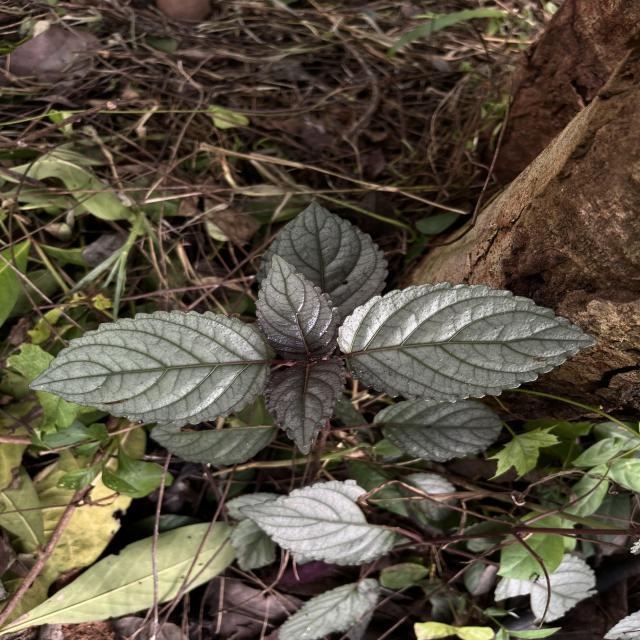Hemigraphis colorata: (336, 278, 602, 407), (26, 306, 276, 428), (254, 196, 391, 308), (235, 476, 398, 568), (251, 250, 343, 362), (258, 356, 349, 458)
